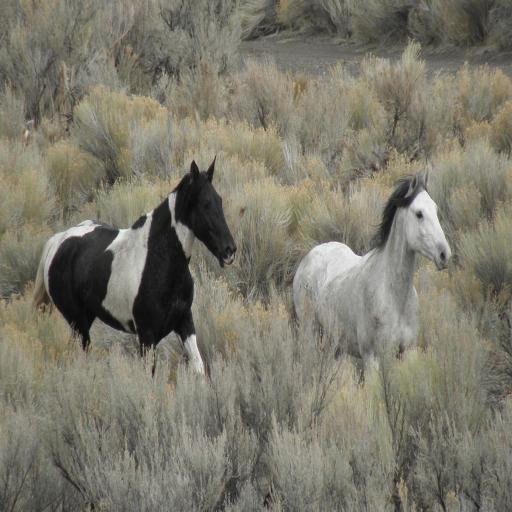horse: (31, 154, 236, 382), (288, 167, 454, 383)
